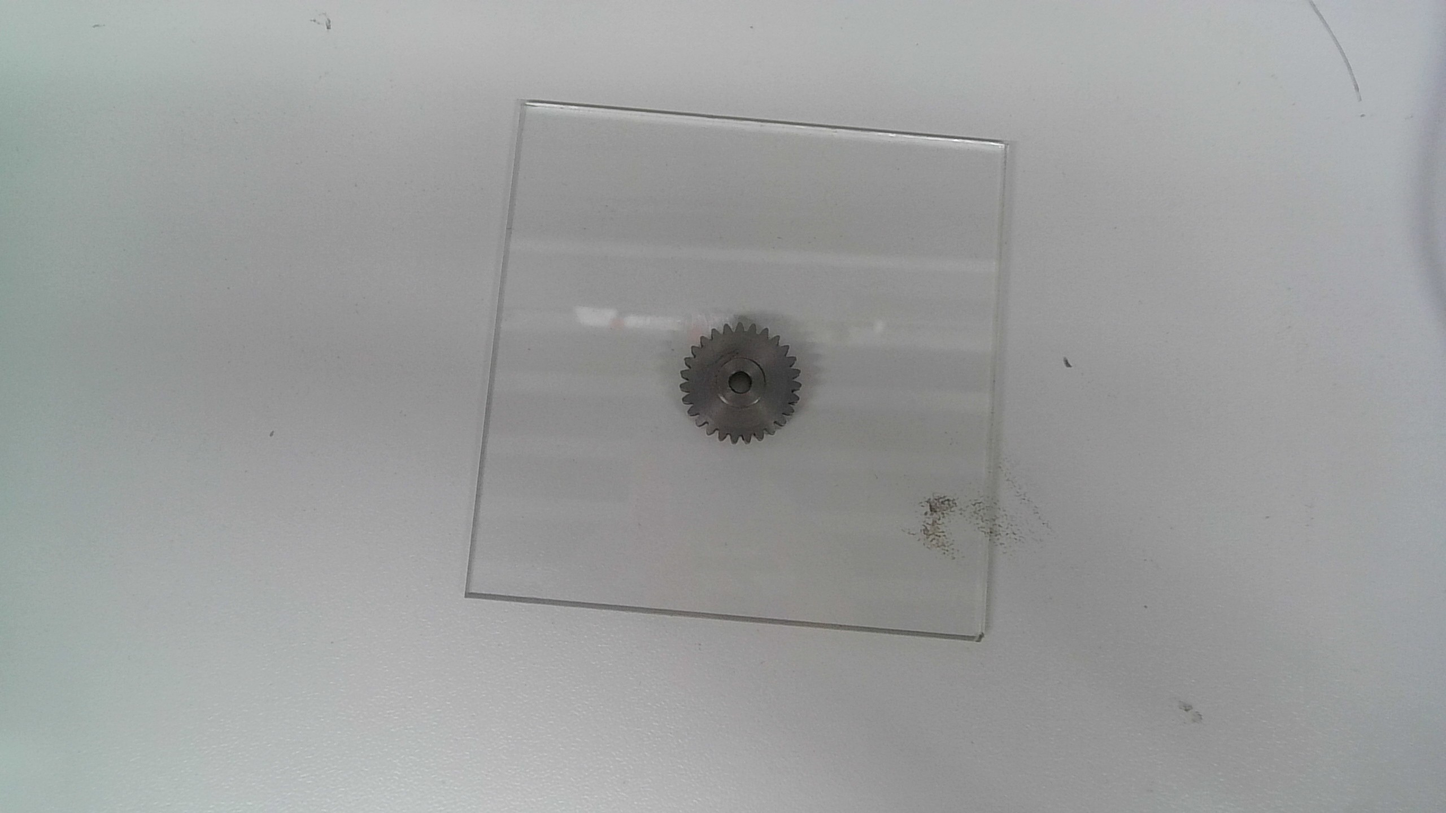gear: (678, 321, 804, 446)
